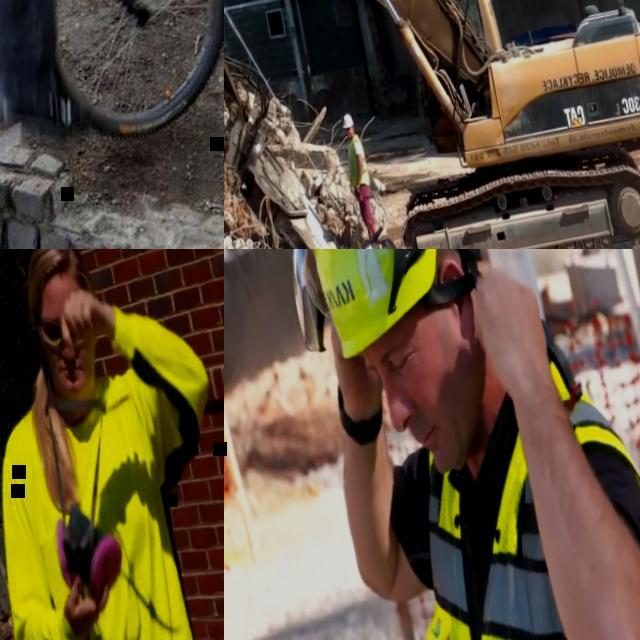Weapon: (223, 251, 640, 640), (8, 259, 178, 640), (334, 98, 404, 288)
objects: (250, 242, 468, 468)
